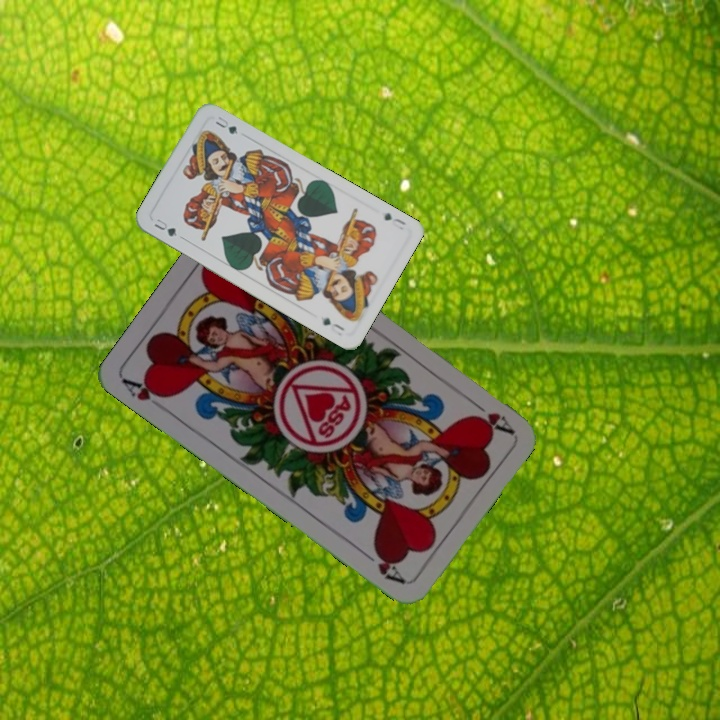GU: (150, 214, 180, 239), (380, 209, 409, 233)
HA: (464, 394, 515, 436), (119, 375, 172, 404)
